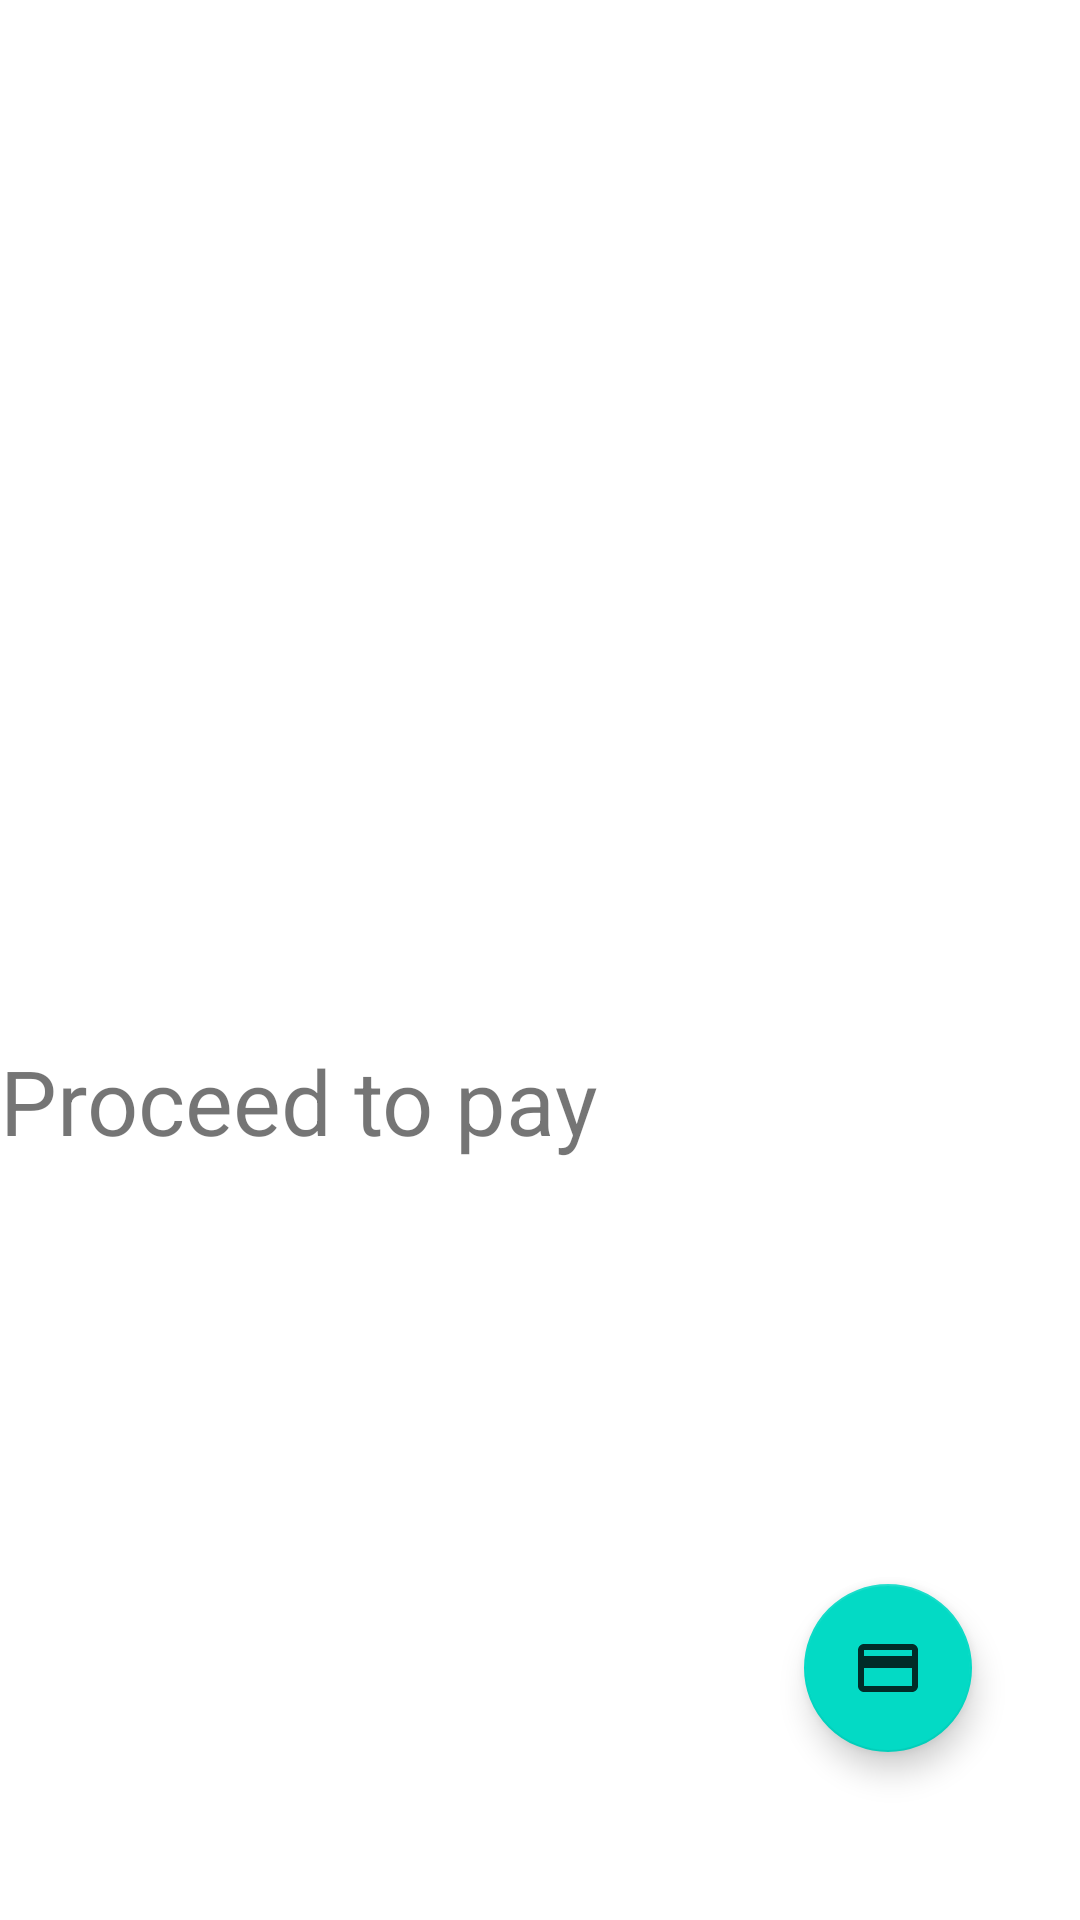

Where icons sit on this 1080 × 1920 app screen, as (x1, y1, x2, y2):
payment: (804, 1584, 972, 1752)
